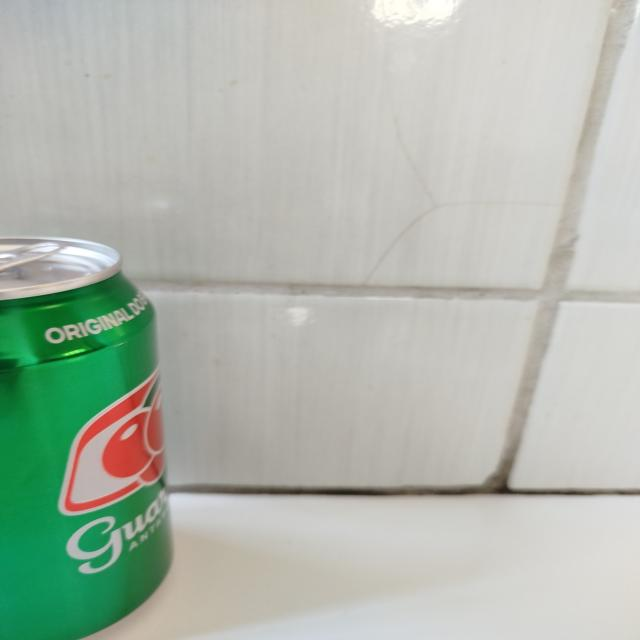Guarana: (0, 242, 171, 640)
